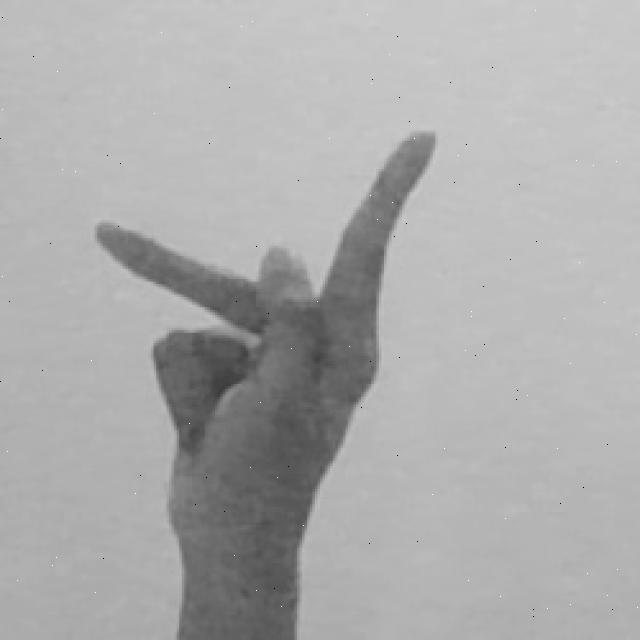K: (90, 128, 440, 640)
